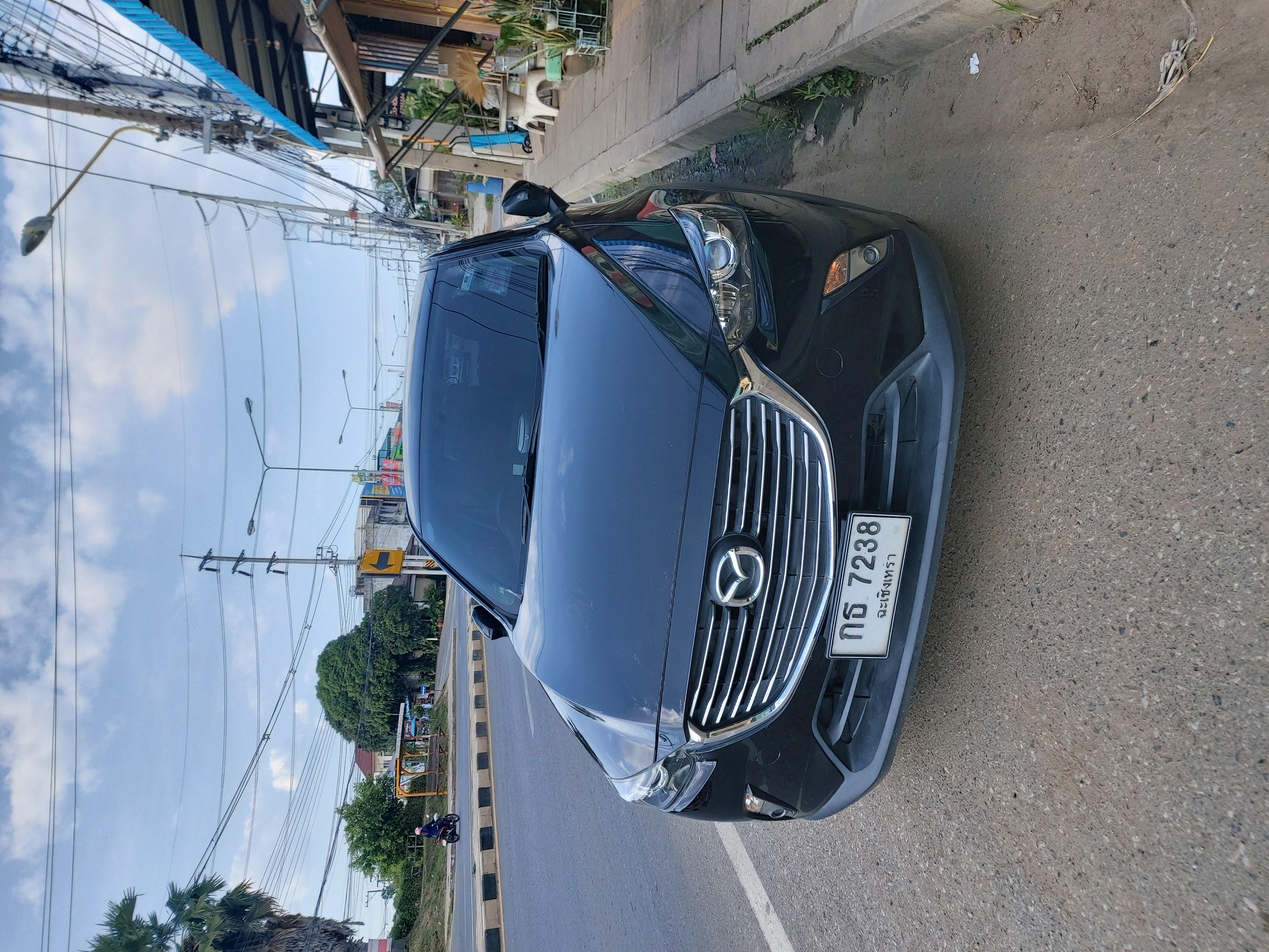license-plate: (394, 622, 583, 684)
